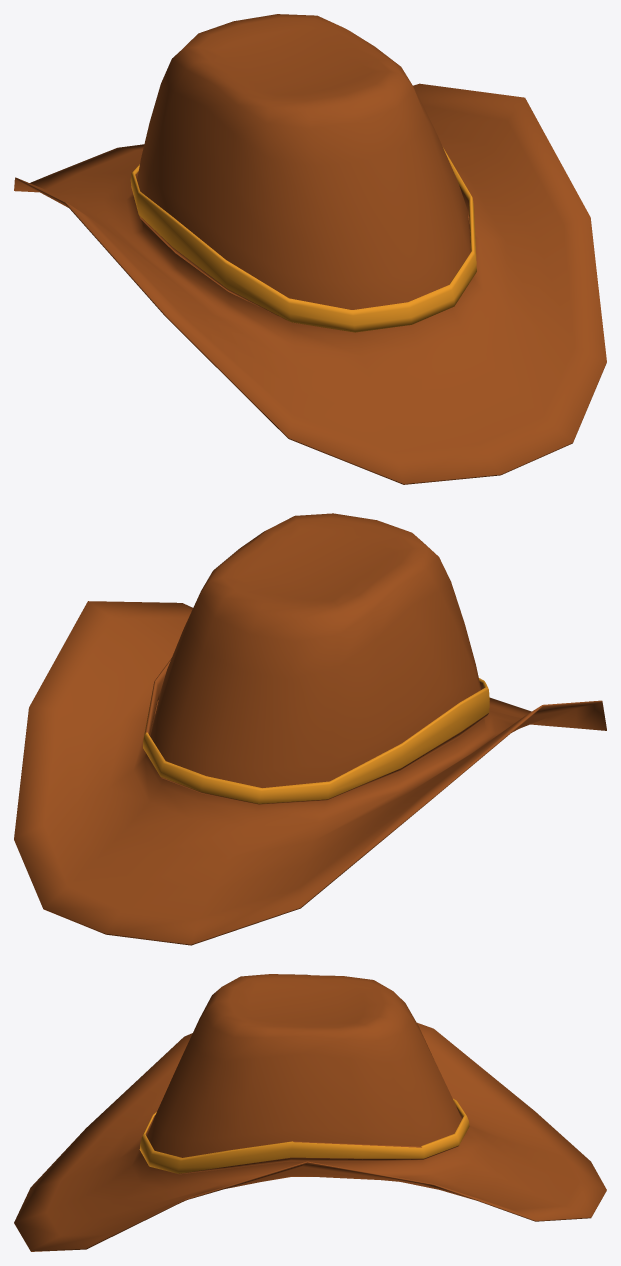
Rendered from CowboyHat.fbx.
The picture shows the model from 3 angles, top to bottom: view 1: azimuth 30°, elevation 25°; view 2: azimuth 150°, elevation 25°; view 3: azimuth 270°, elevation 25°; orthographic projection. The views are drawn at different scales.
Visible parts, largest first — view 1: Cube; view 2: Cube; view 3: Cube.
Part boxes in pixels (x1,y1,x2,y2): Cube: (14,14,606,484); Cube: (14,513,606,945); Cube: (14,974,606,1251).
Bounding box in the file's own units: 322 × 188 × 467.
